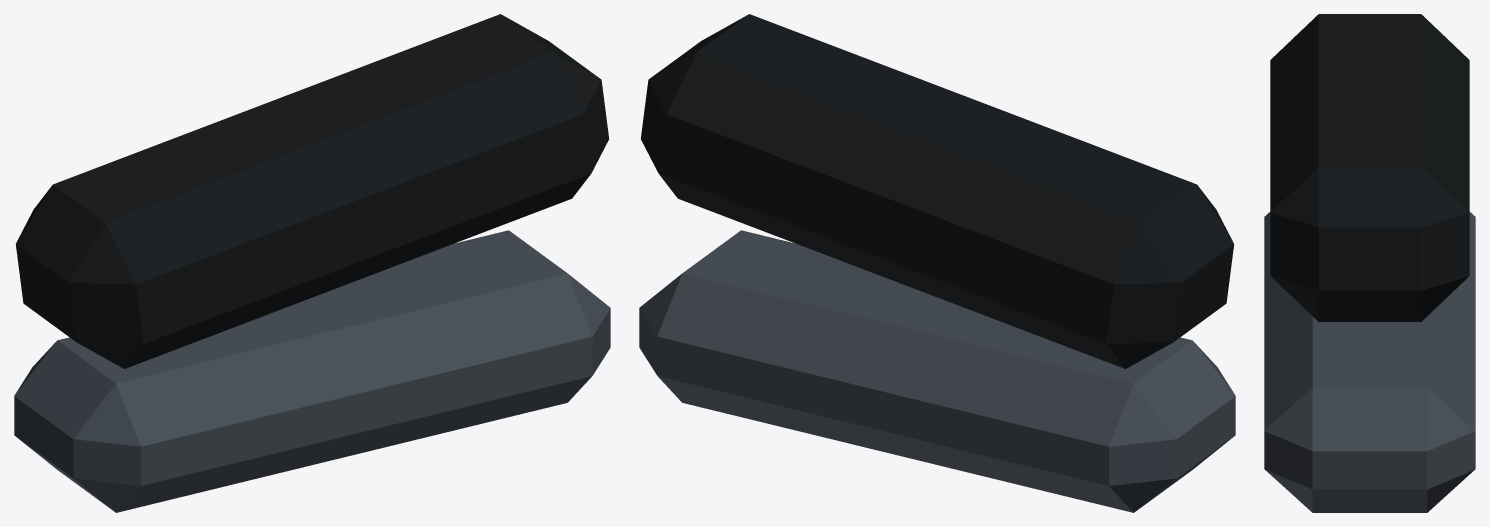
The model's file is Stapler.fbx.
3 views of the same model, side by side, from view 1: azimuth 30°, elevation 25°; view 2: azimuth 150°, elevation 25°; view 3: azimuth 270°, elevation 25° (orthographic). The views are drawn at different scales.
Visible parts, largest first — view 1: Stapler; view 2: Stapler; view 3: Stapler.
Part boxes in pixels (x1,y1,x2,y2): Stapler: (14, 14, 610, 512); Stapler: (639, 14, 1235, 512); Stapler: (1264, 14, 1475, 512).
Bounding box in the file's own units: 10.06 × 6.23 × 3.5.
1 material, 1 textured.
